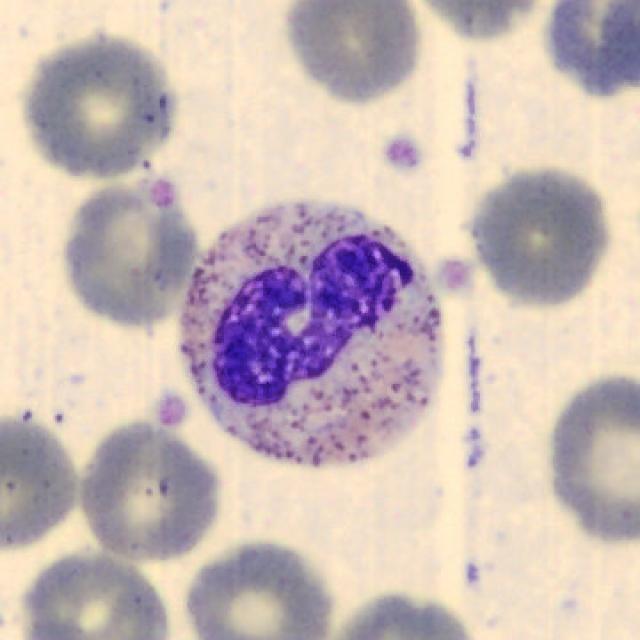Neutrofilo segmentado: (178, 199, 443, 469)
